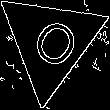O_SW: (20, 9, 81, 75)
